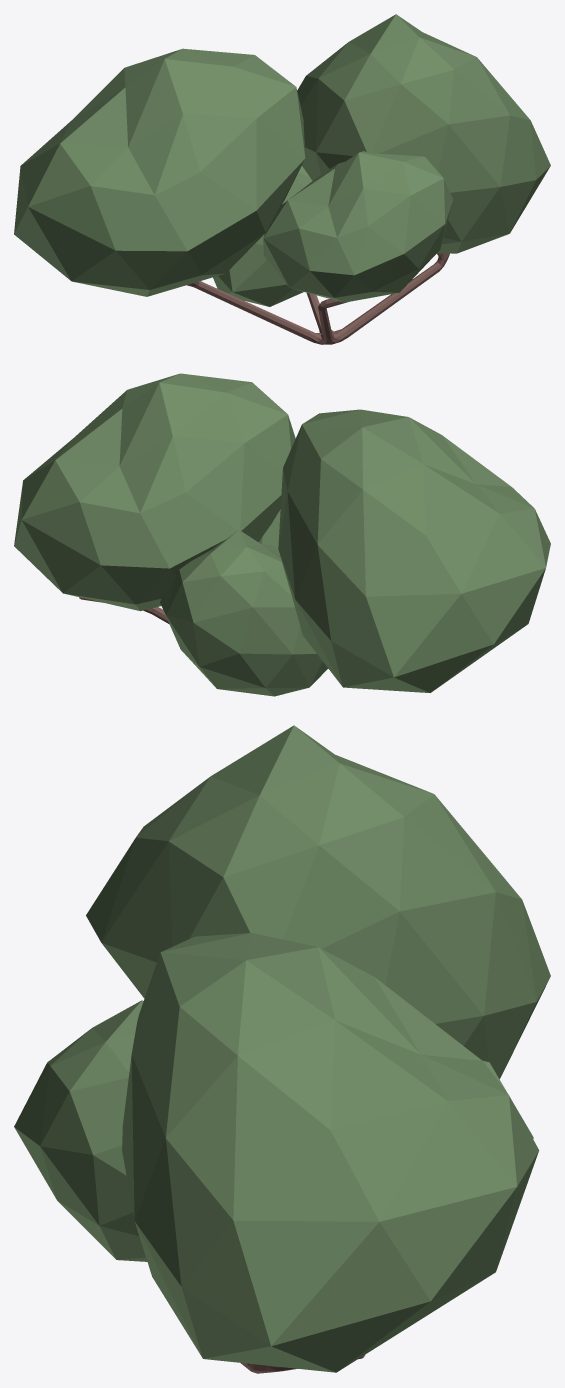
The model's file is Bush(1).fbx.
The picture shows the model from 3 angles, top to bottom: view 1: azimuth 30°, elevation 25°; view 2: azimuth 150°, elevation 25°; view 3: azimuth 270°, elevation 25°; orthographic projection. The views are drawn at different scales.
Visible parts, largest first — view 1: Icosphere.001; view 2: Icosphere.001; view 3: Icosphere.001.
Part boxes in pixels (left/top/right/bottom): Icosphere.001: left=14, top=14, right=550, bottom=344; Icosphere.001: left=14, top=373, right=550, bottom=696; Icosphere.001: left=14, top=725, right=550, bottom=1373.
Size of the model in its own units: 222 by 127 by 122.
Materials: 1 (1 with a texture image).
